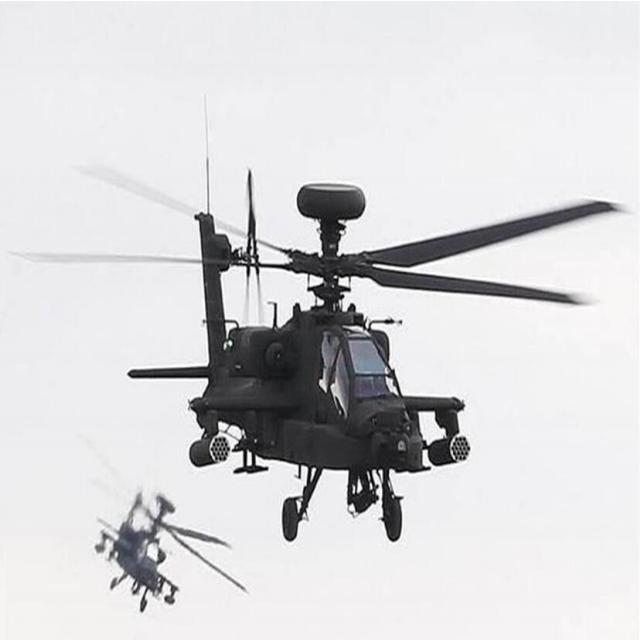MIL_HELO: (28, 148, 635, 543), (58, 472, 256, 614)
